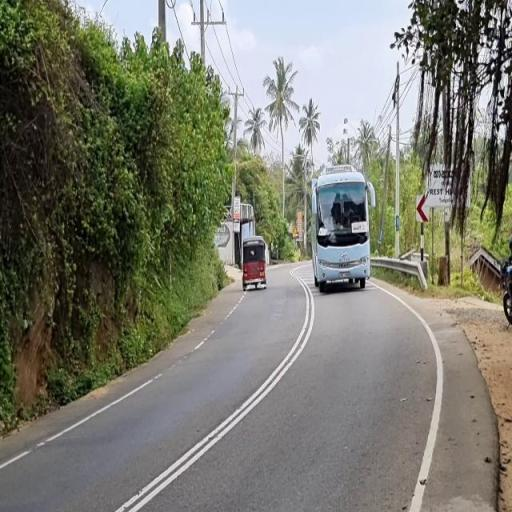double_white_line: (110, 270, 314, 512)
